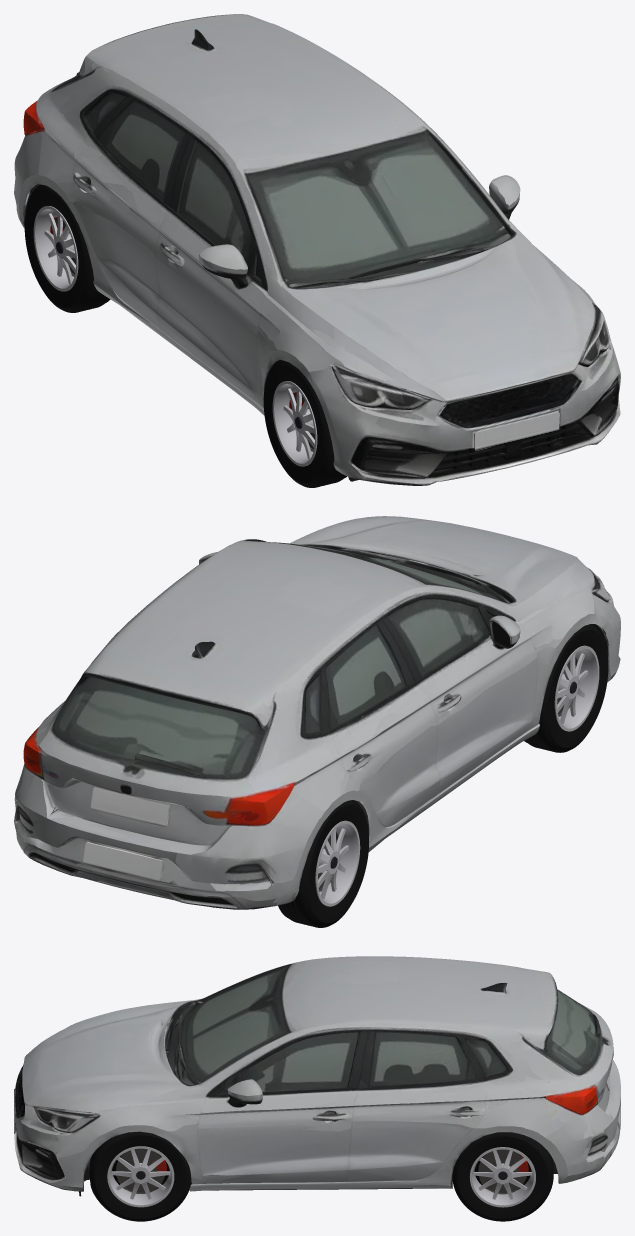
Rendered from kompakt.glb.
3 renders of one model, top to bottom at view 1: azimuth 30°, elevation 25°; view 2: azimuth 150°, elevation 25°; view 3: azimuth 270°, elevation 25°, orthographic. The views are drawn at different scales.
Visible parts, largest first — view 1: karosserie, rad_vr, rad_hr; view 2: karosserie, rad_hr, rad_vr; view 3: karosserie, rad_vl, rad_hl.
Boxes of the visible parts, <box> form: karosserie: <box>14,14,620,485</box>; rad_vr: <box>263,360,346,487</box>; rad_hr: <box>24,184,110,312</box>; karosserie: <box>14,516,620,909</box>; rad_hr: <box>278,800,368,927</box>; rad_vr: <box>524,624,608,752</box>; karosserie: <box>14,956,620,1199</box>; rad_vl: <box>89,1131,191,1221</box>; rad_hl: <box>452,1132,553,1221</box>.
Bounding box in the file's own units: 1.96 × 1.46 × 4.28.
3 materials, 1 textured.
